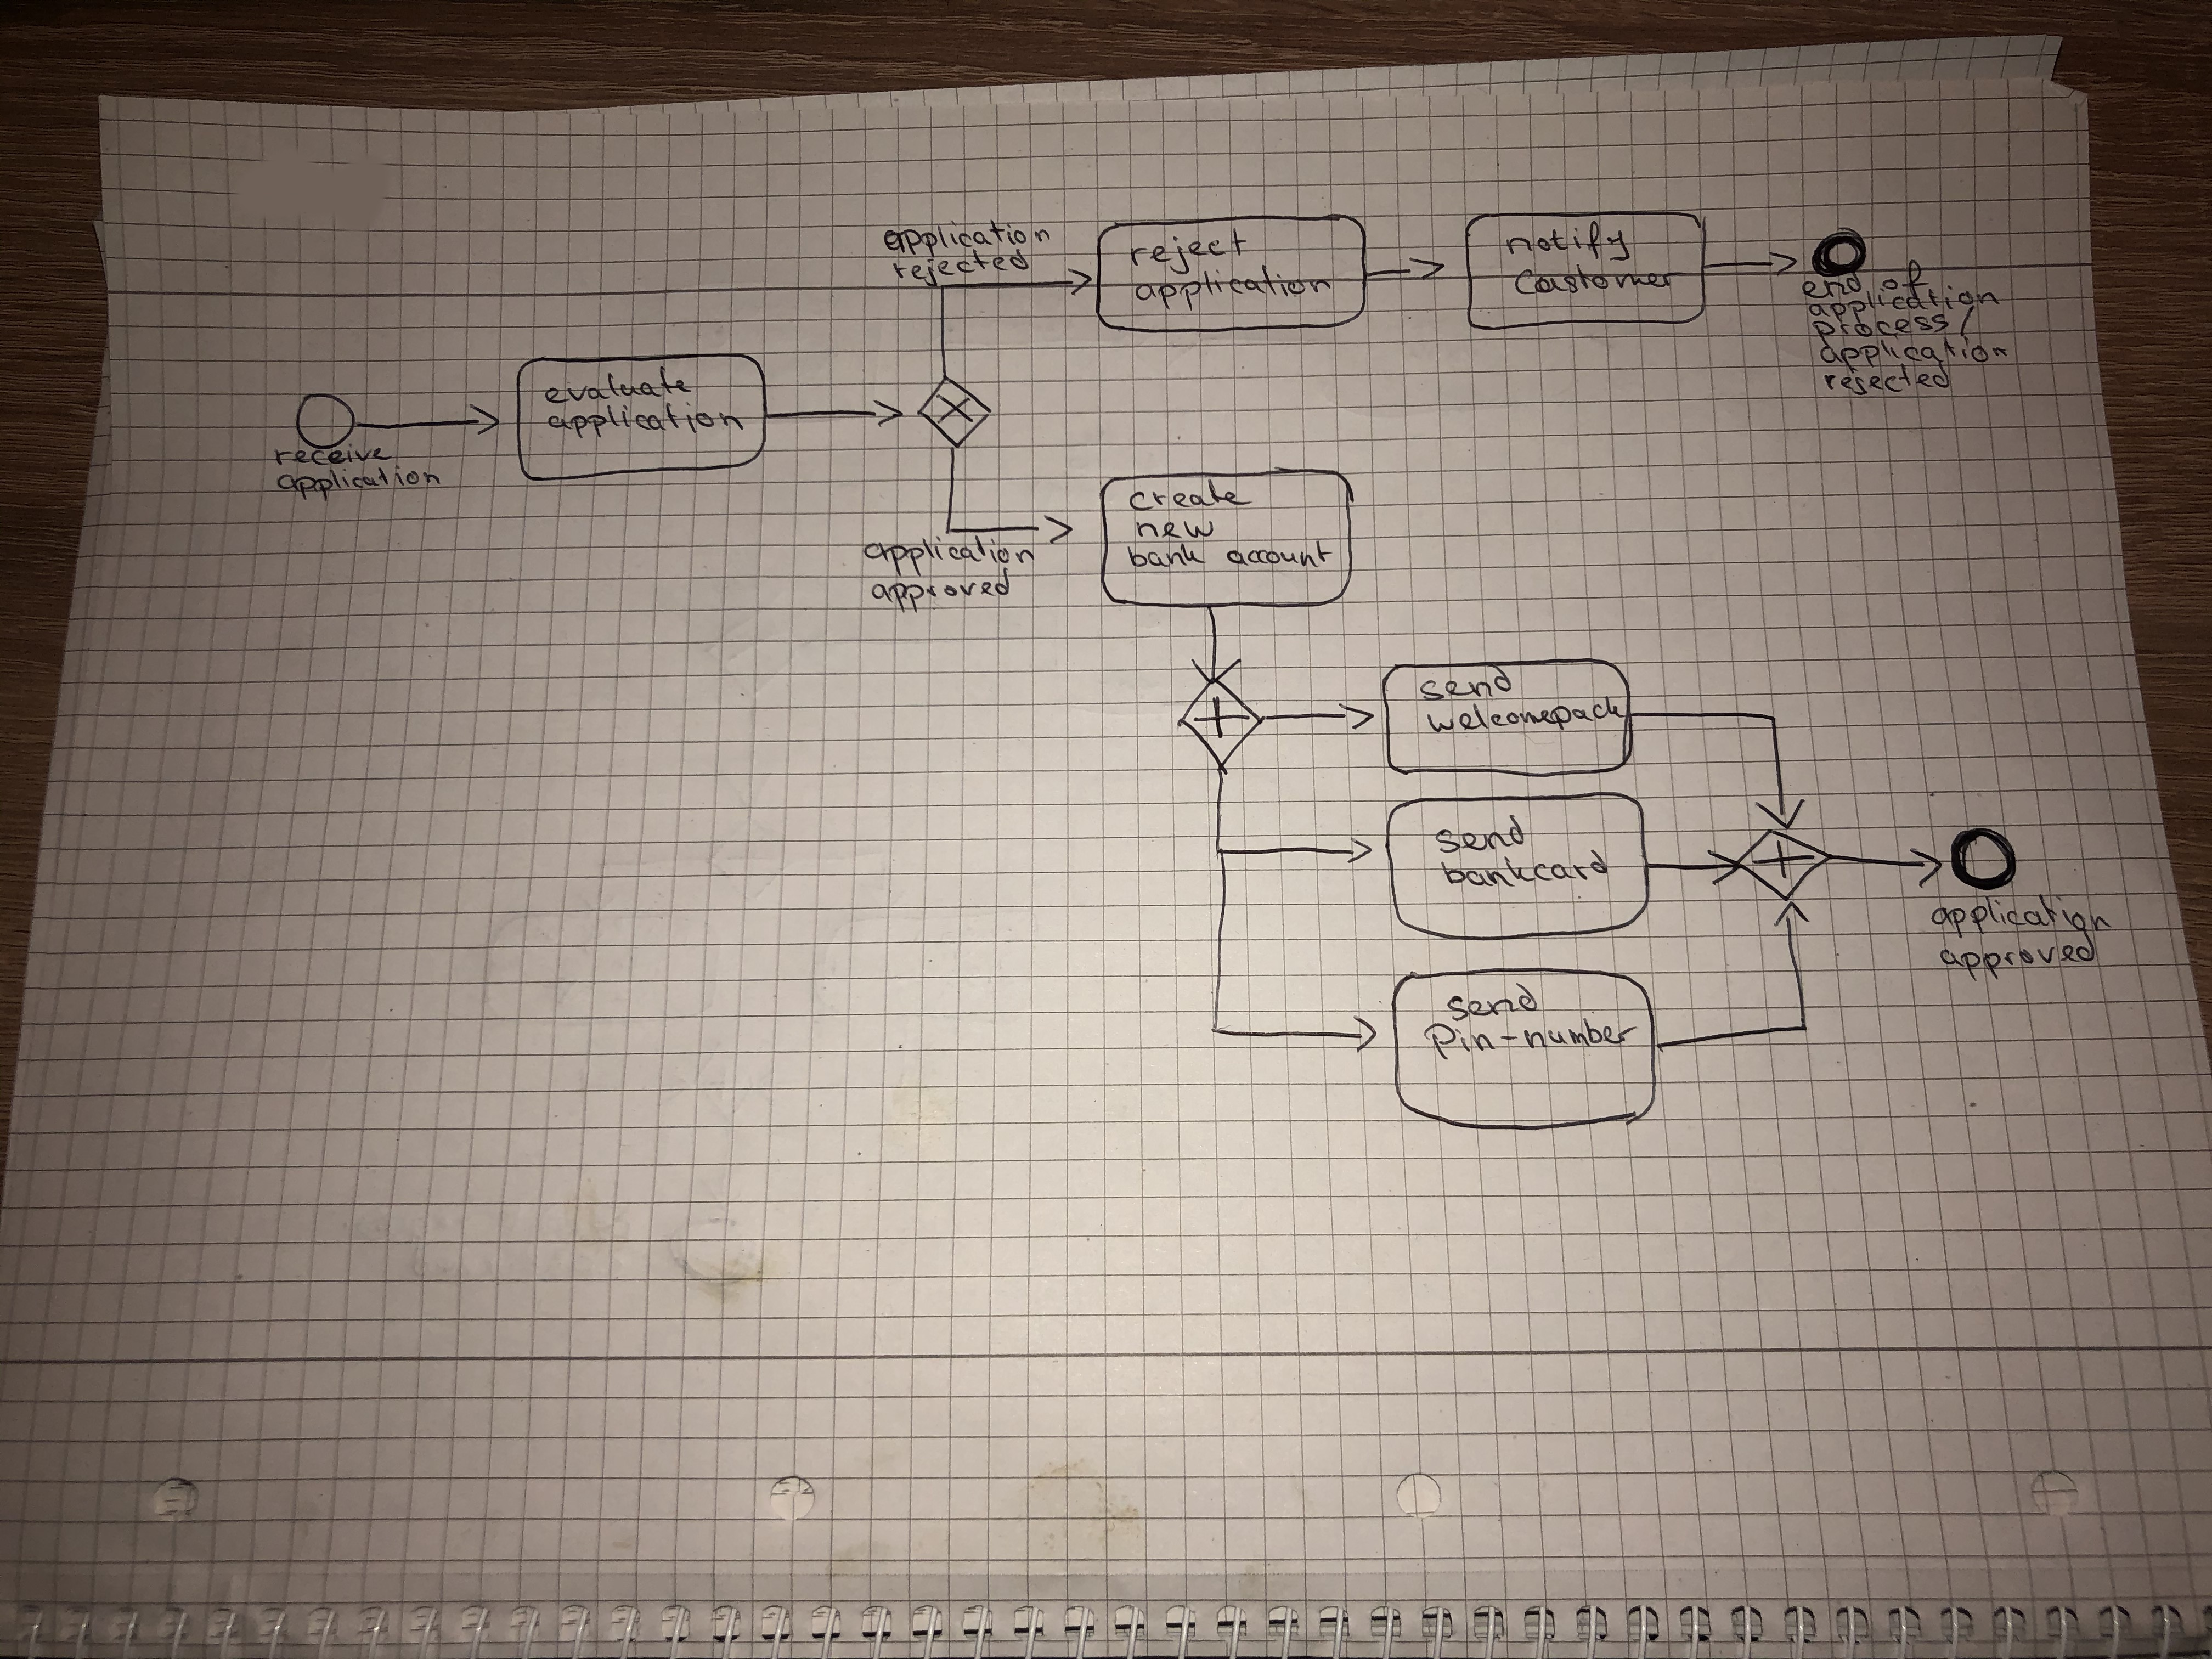-number: (1498, 1016, 1639, 1051)
/: (1956, 305, 1982, 338)
Pin: (1420, 1023, 1500, 1061)
account: (1221, 538, 1331, 568)
application: (1130, 267, 1346, 314), (869, 213, 1054, 258), (1928, 892, 2114, 936), (542, 401, 749, 439), (1808, 284, 2005, 322), (852, 535, 1042, 573), (1818, 335, 2015, 371), (266, 464, 449, 502)
approved: (1935, 929, 2099, 983), (864, 568, 1019, 617)
bank: (1116, 544, 1214, 570)
bankcard: (1442, 847, 1618, 887)
create: (1122, 481, 1256, 514)
customer: (1515, 263, 1676, 301)
end: (1796, 274, 1865, 298)
evaluate: (545, 364, 695, 406)
new: (1127, 516, 1216, 540)
notify: (1494, 221, 1634, 263)
of: (1879, 258, 1932, 300)
process: (1808, 312, 1947, 347)
receive: (270, 443, 395, 467)
reject: (1129, 227, 1259, 272)
rejected: (890, 247, 1038, 288), (1824, 361, 1951, 397)
send: (1444, 981, 1541, 1023), (1416, 666, 1526, 702), (1433, 812, 1529, 854)
welcomepack: (1426, 697, 1627, 734)
